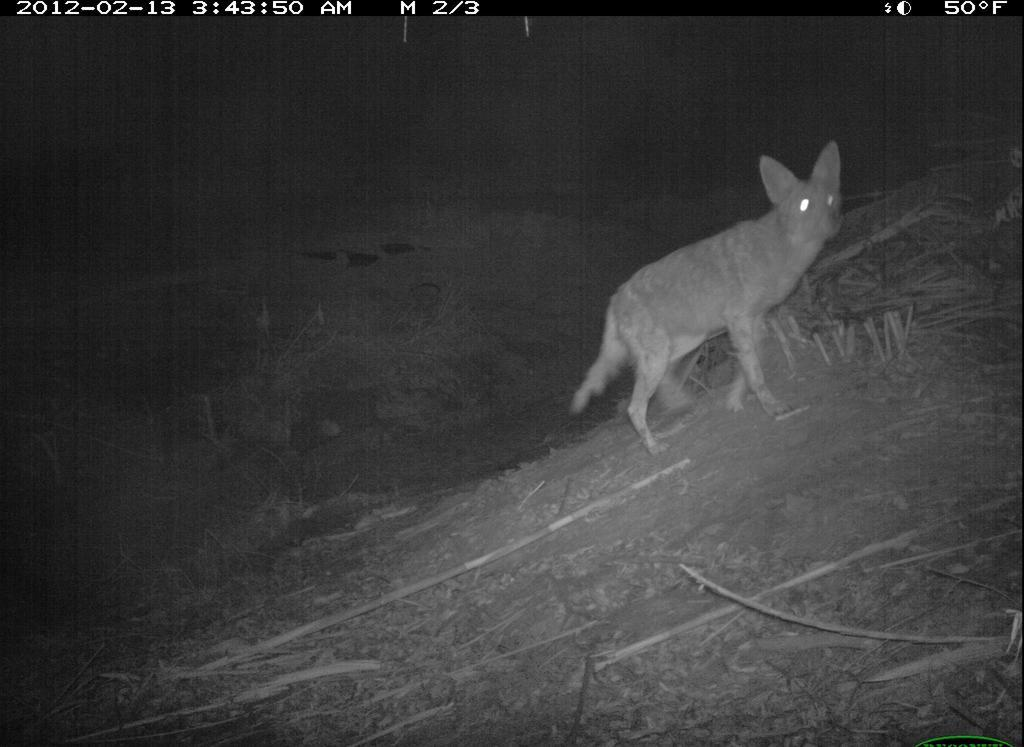coyote: (561, 134, 864, 464)
